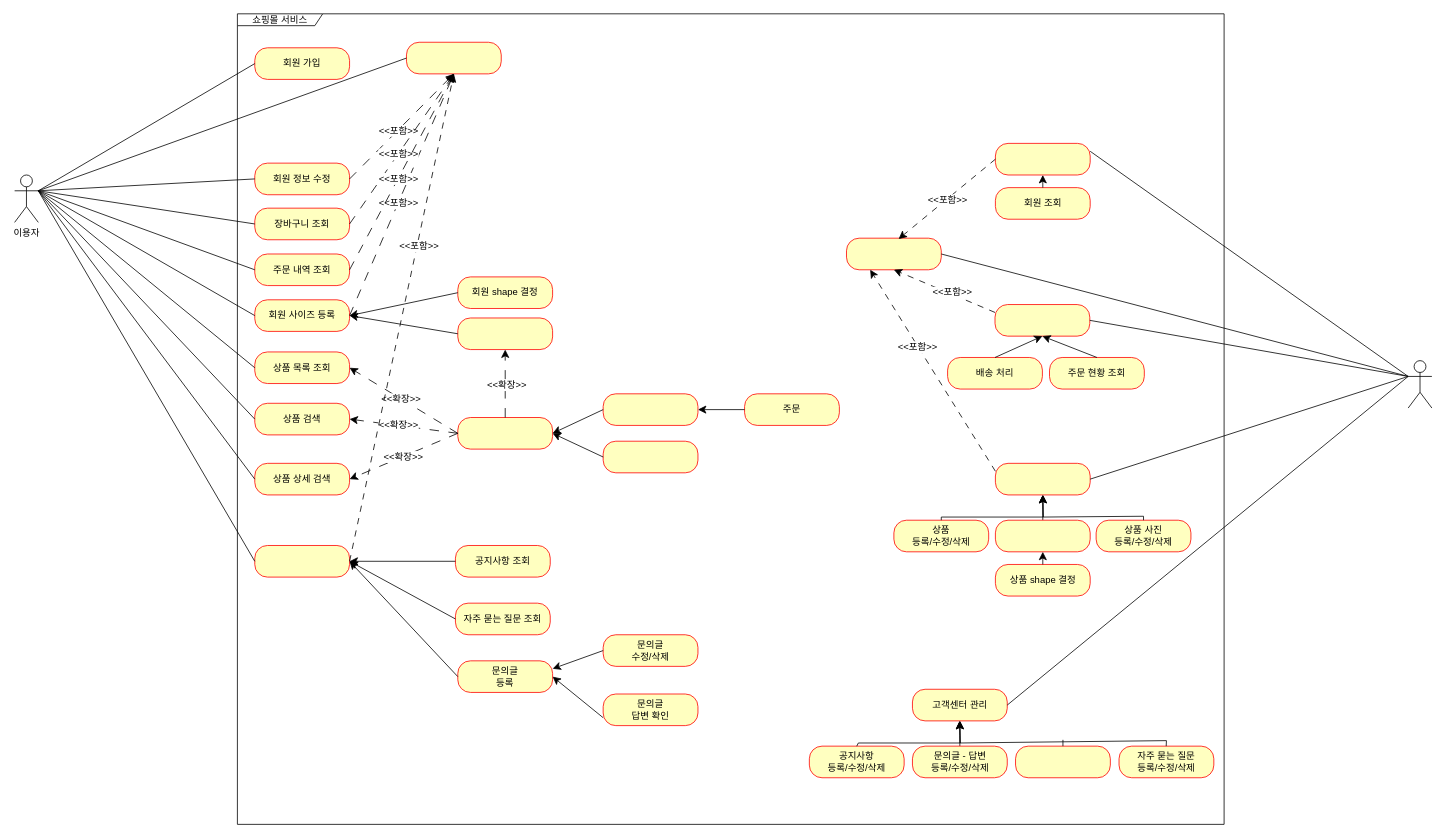
This 1446x838 diagram has some shape labels left out. Here are the shapes that lost their labels. From the top down, the centre of each, then its label:
At (453,57): "회원 로그인".
At (1042,159): "회원 관리".
At (893,253): "관리자 로그인".
At (505,333): "추천 상품 보기".
At (1042,320): "주문 관리".
At (1419,384): "관리자".
At (650,409): "장바구니에 추가".
At (505,433): "상품 상세 조회".
At (650,456): "바로 주문".
At (1042,479): "상품 관리".
At (1042,535): "상품 상세 사이즈 등록/수정/삭제".
At (302,561): "고객센터".
At (1062,761): "문의글 삭제".
